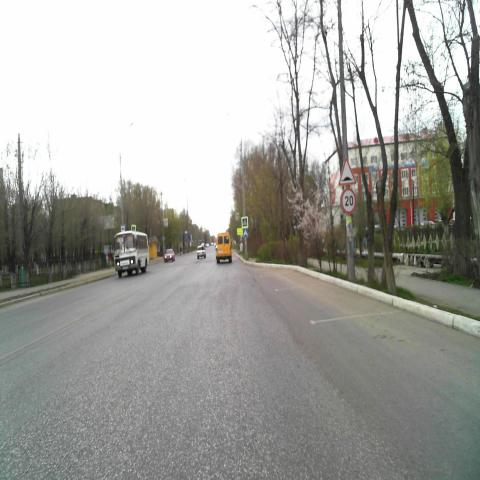1_17: (338, 156, 356, 186)
3_24: (341, 188, 356, 214)
5_19_1: (241, 217, 248, 228)
5_20: (243, 228, 249, 238)
